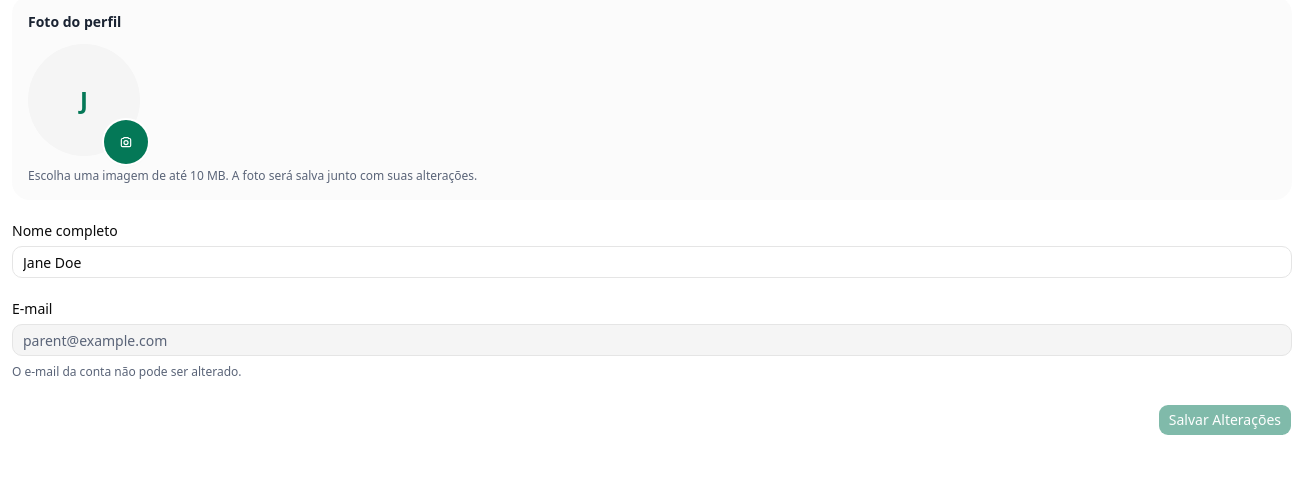
Scenario: ProfileForm › shows a generic error banner when the server rejects the update
Type " Updated" into the field labelled "Nome completo" at (652,262), box [12,246,1292,278]
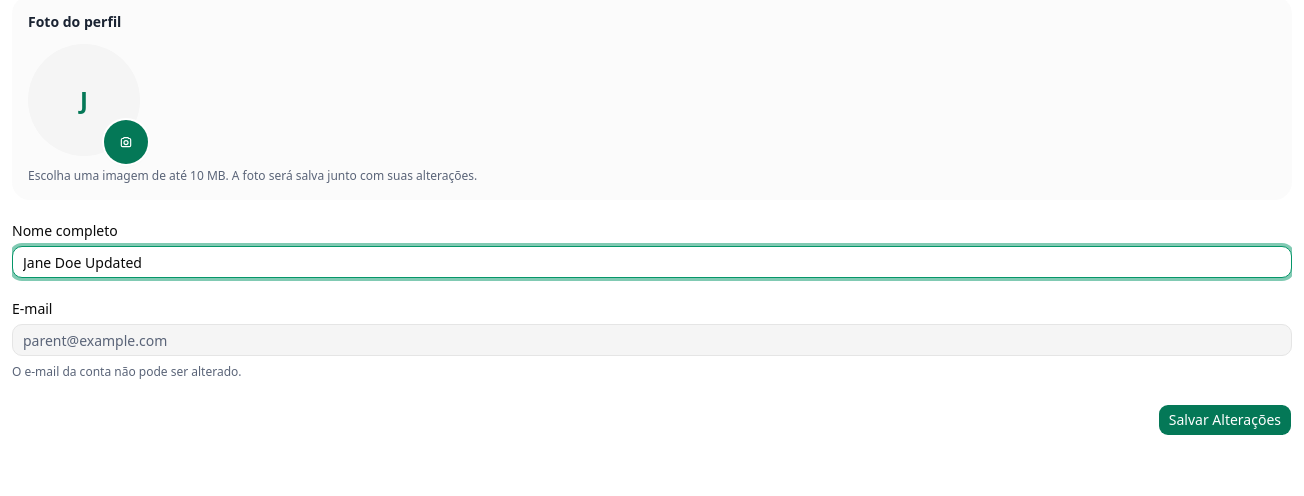
Click the button "Salvar Alterações" at (1225,420), box [1158,404,1292,436]
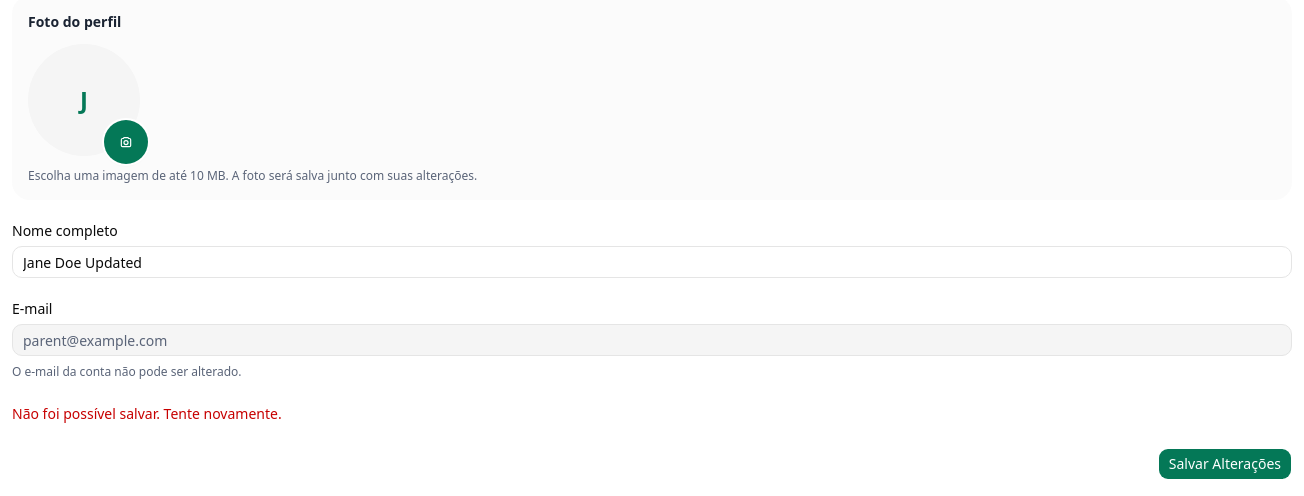
Check: the text "Não foi possível salvar. Tente novamente." is shown, box [12,404,282,423]
